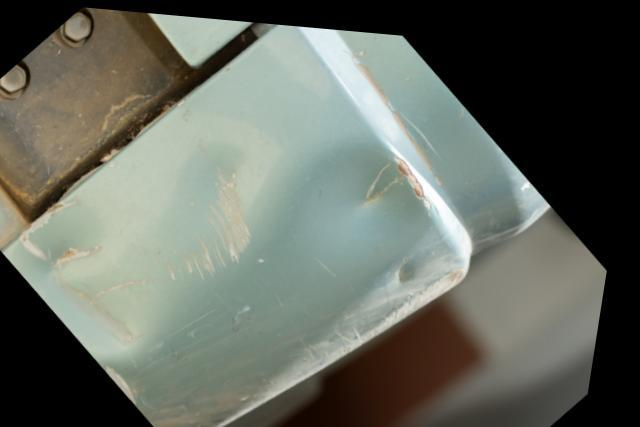dent: (20, 129, 431, 400)
